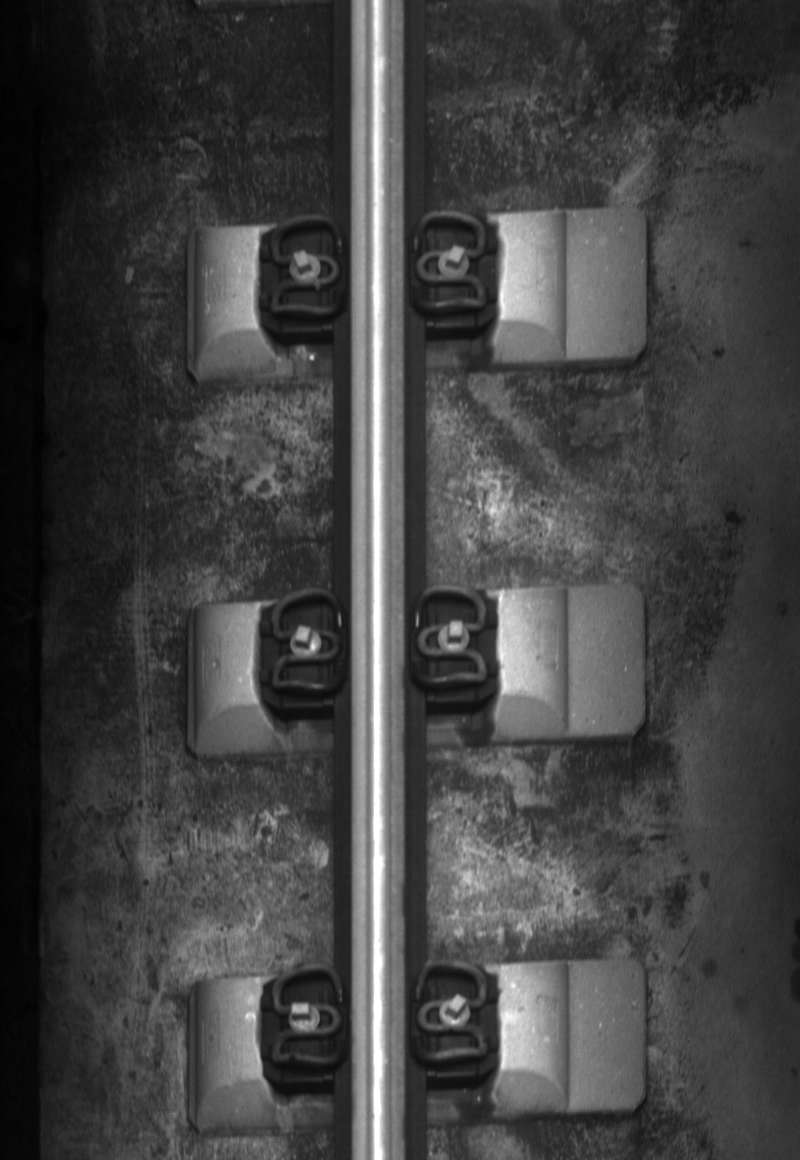l_faster: (263, 209, 347, 326), (266, 583, 348, 699), (266, 962, 348, 1074)
r_faster: (406, 579, 493, 697), (408, 953, 494, 1071), (406, 203, 492, 319)
